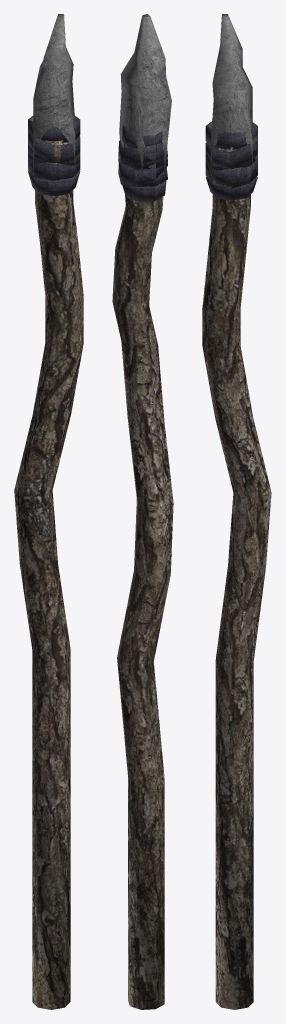
File: StoneSpear.fbx
3 renders of one model, left to right at view 1: azimuth 90°, elevation 25°; view 2: azimuth 210°, elevation 25°; view 3: azimuth 270°, elevation 25°, orthographic.
Visible parts, largest first — view 1: Cylinder; view 2: Cylinder; view 3: Cylinder.
Part boxes in pixels (x1=…): Cylinder: x1=14, y1=14, x2=83, y2=1009; Cylinder: x1=112, y1=14, x2=173, y2=1009; Cylinder: x1=202, y1=14, x2=271, y2=1009.
Size of the model in its own units: 4.99 by 6.23 by 97.82.
Materials: 3 (3 with a texture image).
